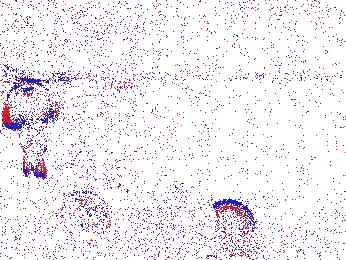flame jellyfish: (3, 81, 61, 177), (60, 190, 111, 241), (208, 200, 256, 248)
